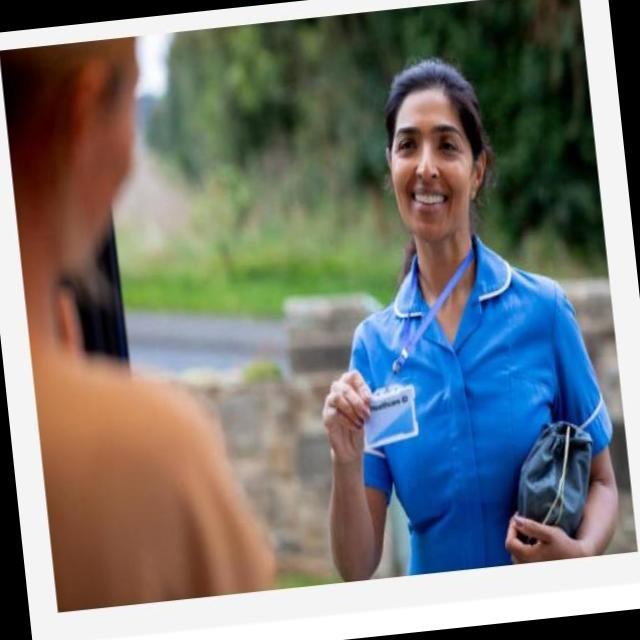id_card: (342, 233, 494, 452)
